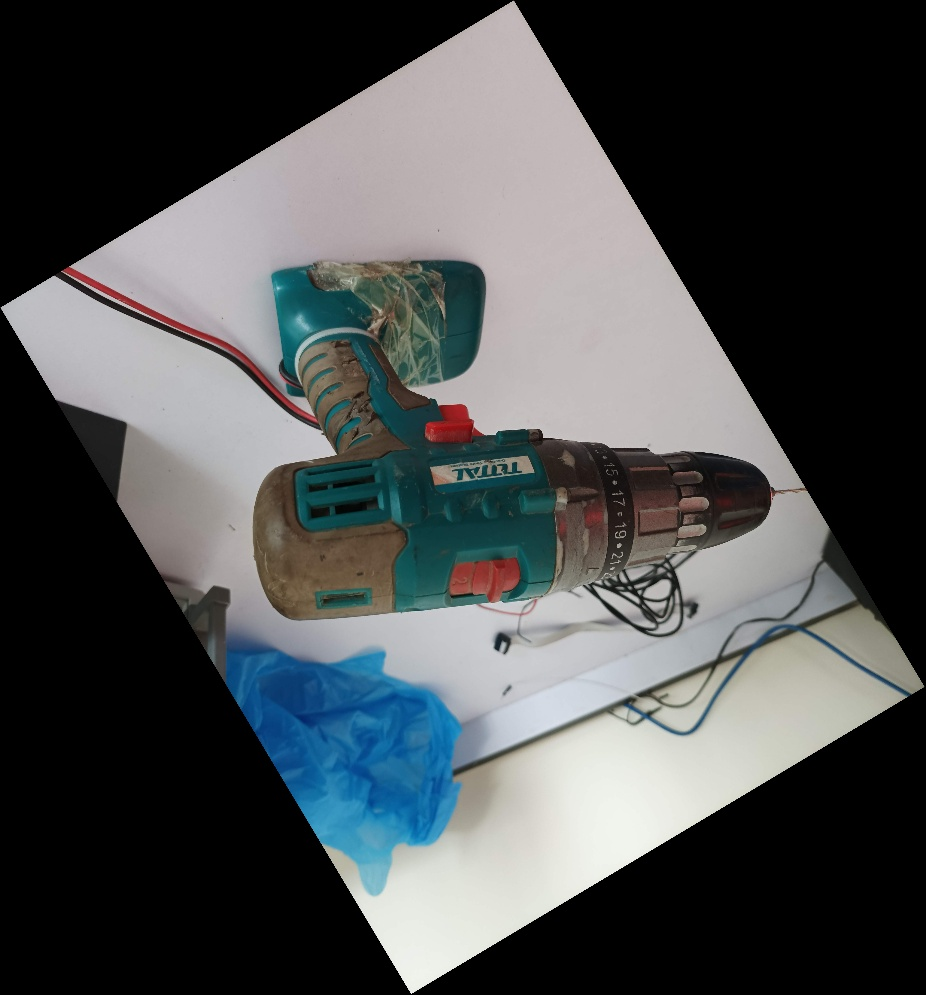driller: (247, 252, 815, 625)
